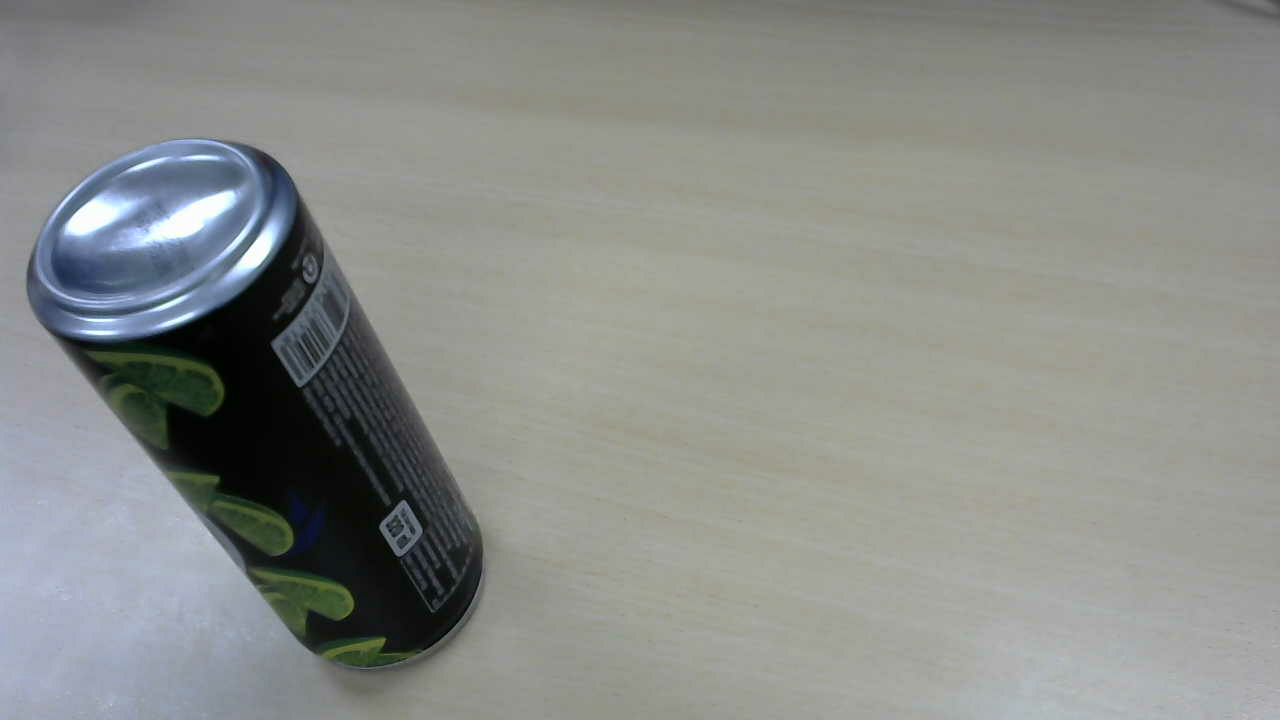Pepsi: (46, 150, 492, 666)
